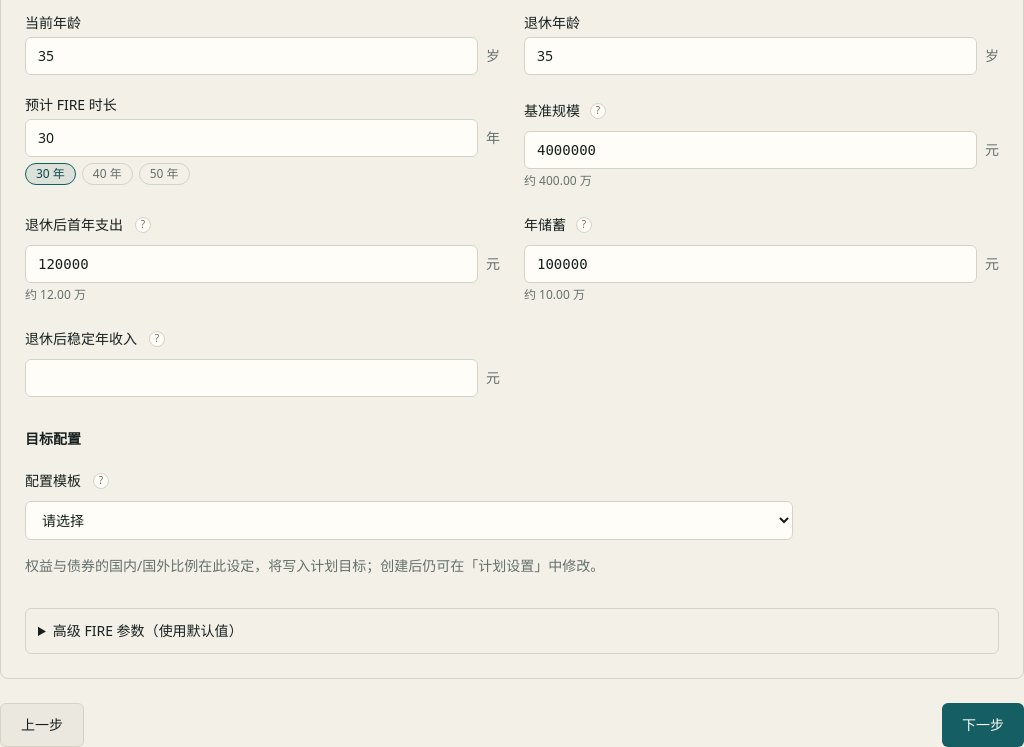
Test: NewPlanWizardPage › shows tabs for equity and bond without cash container
The width and height of the screenshot is (1024, 747).
(page scrolled)
Select "保守 — 权益 45% / 债券 45% / 现金/其他 10%" in the dropdown labelled "配置模板". click: (409, 520)
box: [25, 501, 793, 540]
(page scrolled)
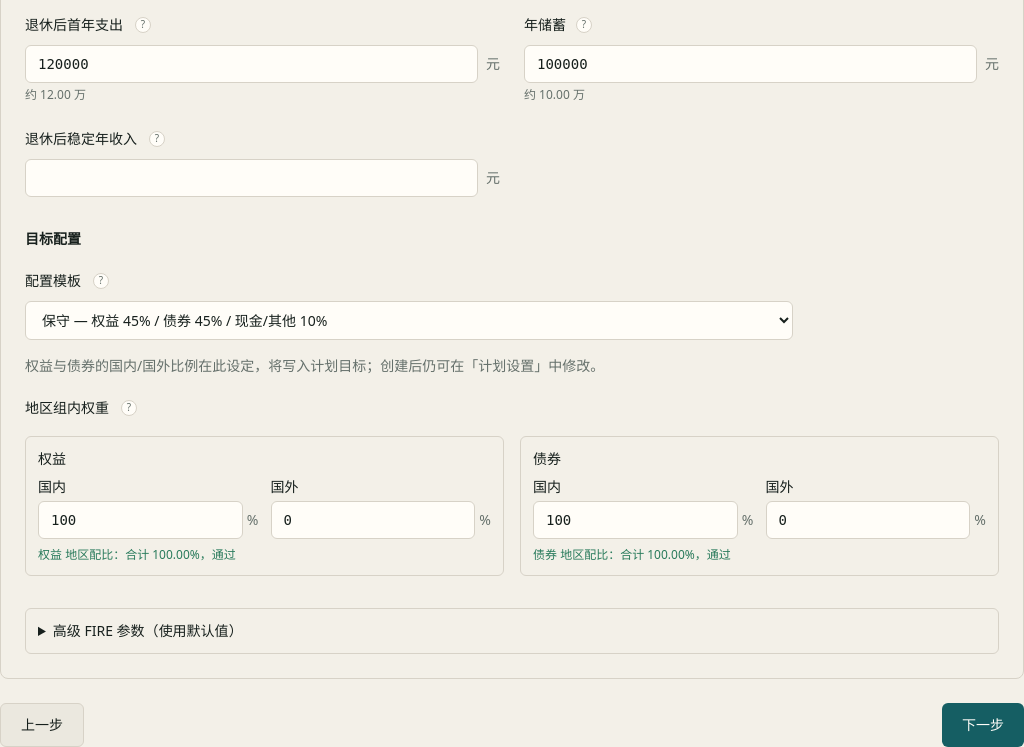
Click the button "下一步". click: (983, 725)
box: [942, 703, 1023, 746]
(page scrolled)
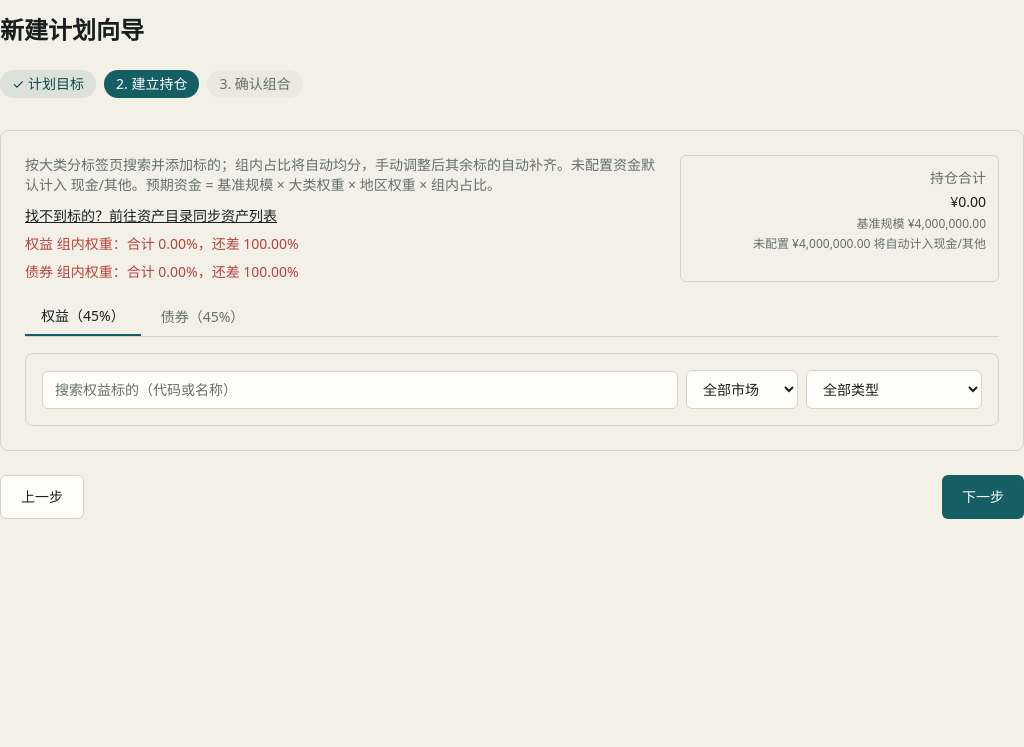
Expected: the text "按大类分标签页搜索并添加标的" is shown, [25, 155, 655, 194]
Expected: the tab "权益（45%）" is shown, [25, 298, 141, 336]
Expected: the tab "债券（45%）" is shown, [145, 298, 260, 336]
Type "X9" into the dropdown named "权益国内搜索". click: (360, 390)
box: [42, 370, 678, 408]
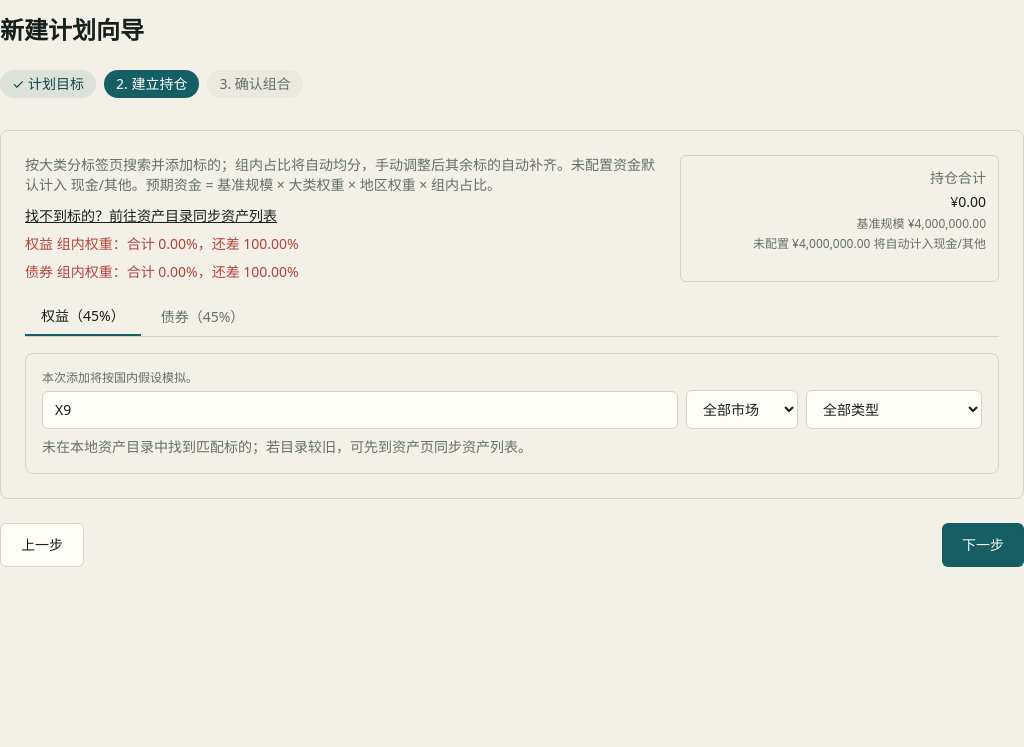
Expected: the text "未在本地资产目录中找到匹配标的；若目录较旧，可先到资产页同步资产列表。" is shown, [42, 437, 532, 456]
